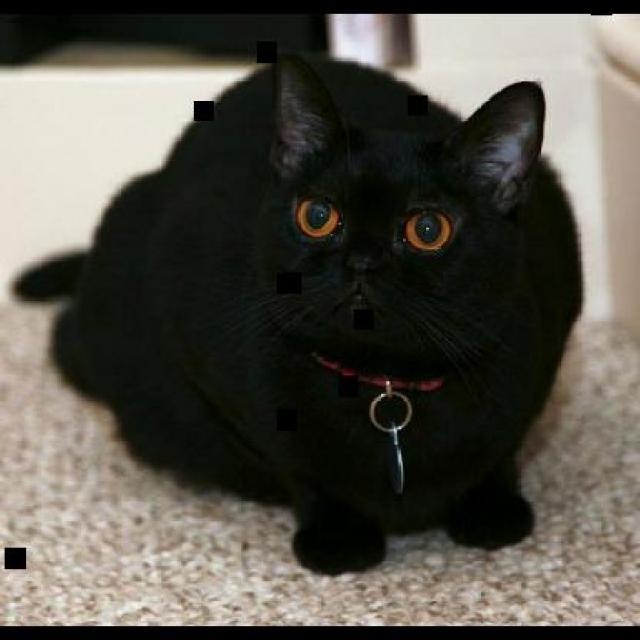unauthorized: (11, 49, 584, 577)
